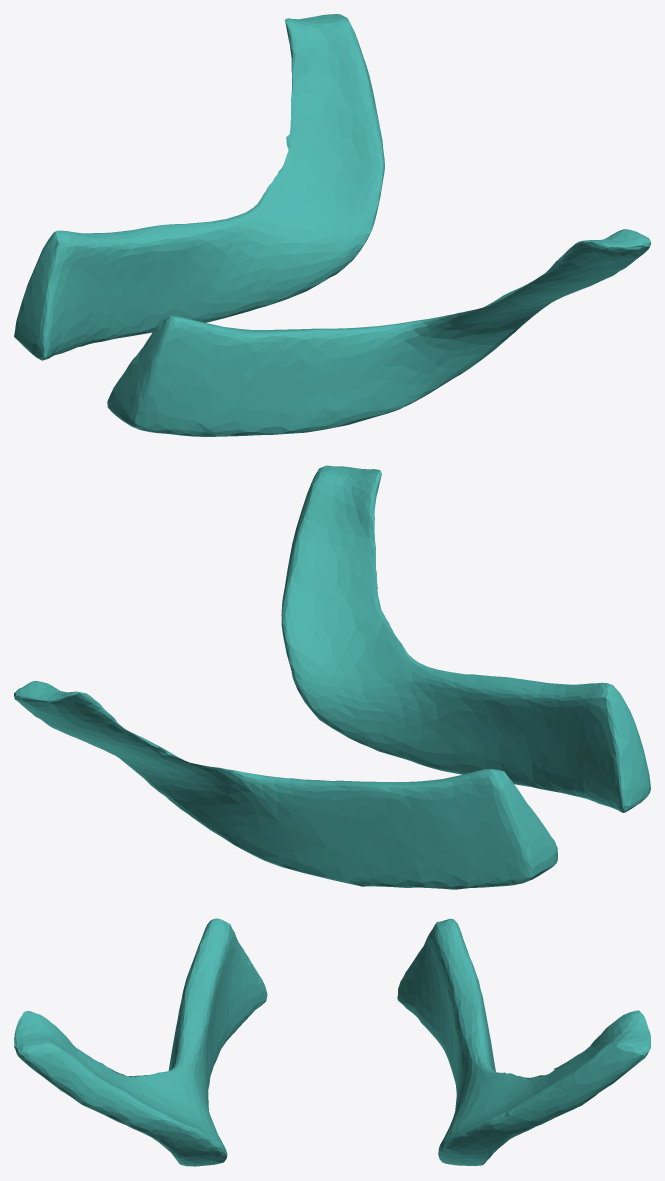
3 views of the same model, one above another, from view 1: azimuth 30°, elevation 25°; view 2: azimuth 150°, elevation 25°; view 3: azimuth 270°, elevation 25° (orthographic).
Visible parts, largest first — view 1: 894.obj; view 2: 894.obj; view 3: 894.obj.
Boxes of the visible parts, x1,y1,x2,y2 form: 894.obj: [14, 14, 650, 436]; 894.obj: [14, 465, 650, 889]; 894.obj: [14, 918, 650, 1166].
Size of the model in its own units: 4205 by 1877 by 5375.
